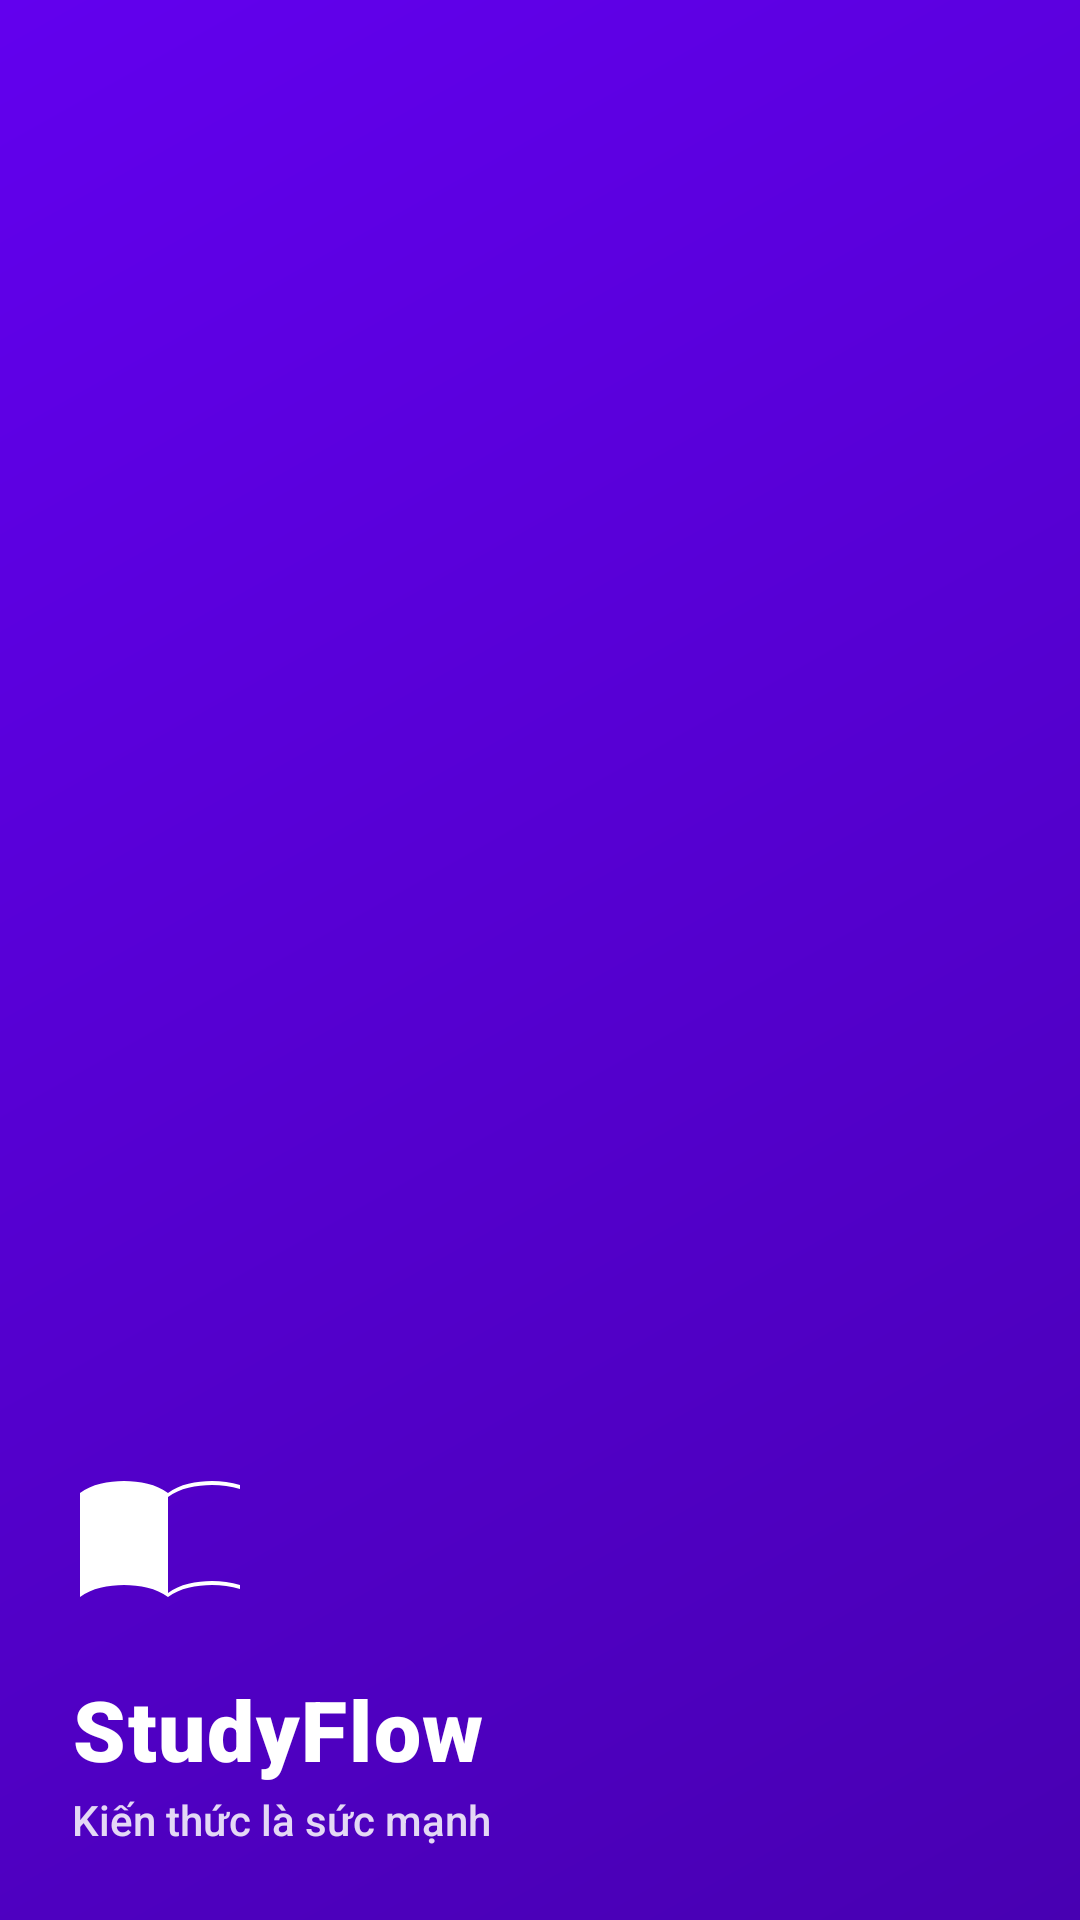

Point at icon controls on the screen. Image size 1080 × 1920, points as [x,y].
book: [160,1539]
